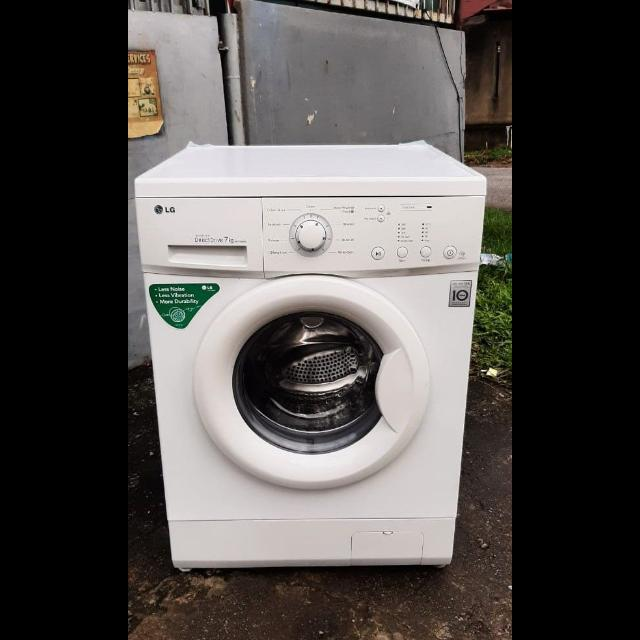Washing-Machine: (137, 145, 483, 568)
